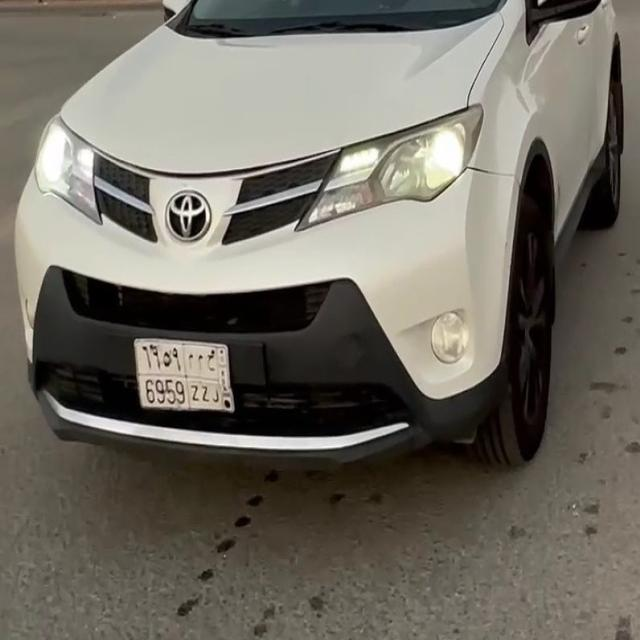Car-plate: (125, 326, 241, 420)
